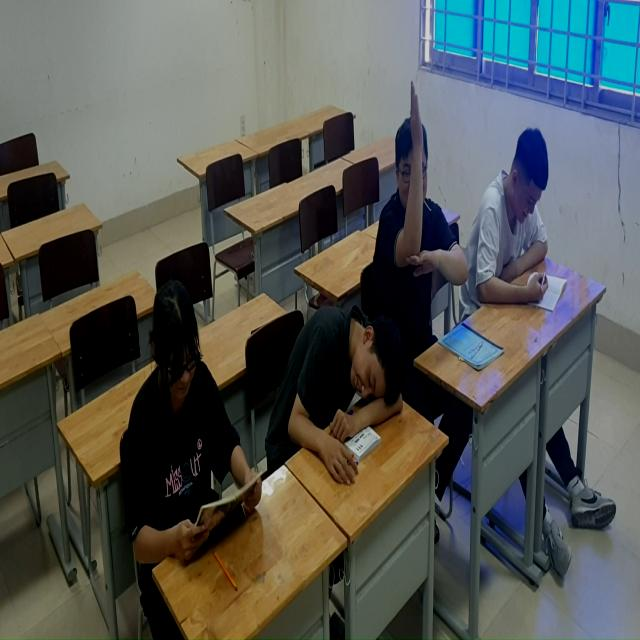raise_hand: (375, 91, 471, 365)
read: (123, 273, 266, 568), (478, 128, 576, 313)
sleep: (272, 293, 408, 498)
